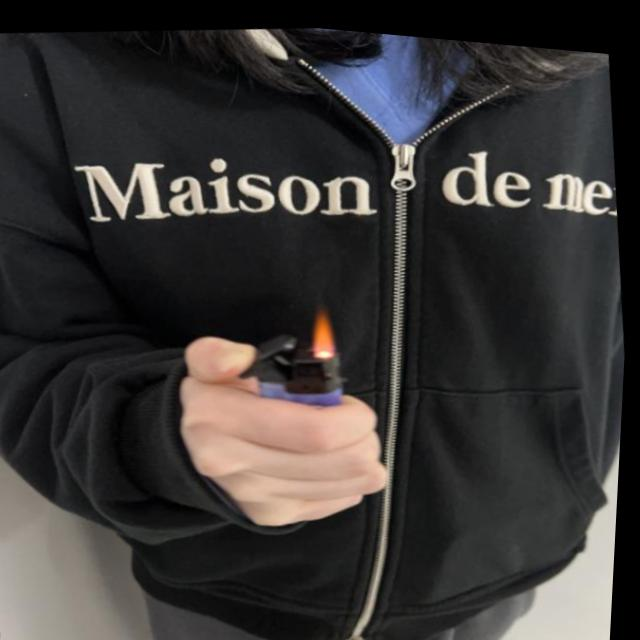Fire: (309, 294, 340, 355)
